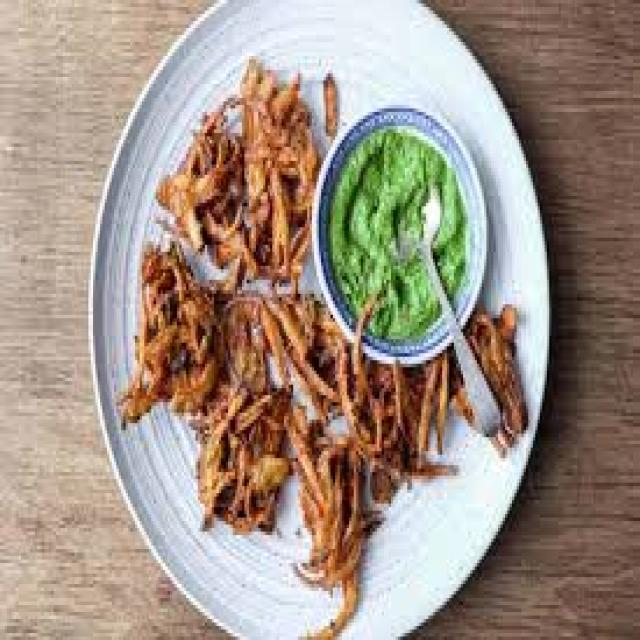BAJI: (201, 302, 282, 536), (129, 248, 221, 427), (168, 99, 251, 281), (302, 404, 380, 570), (354, 346, 449, 473), (246, 61, 301, 256), (281, 288, 351, 395)
